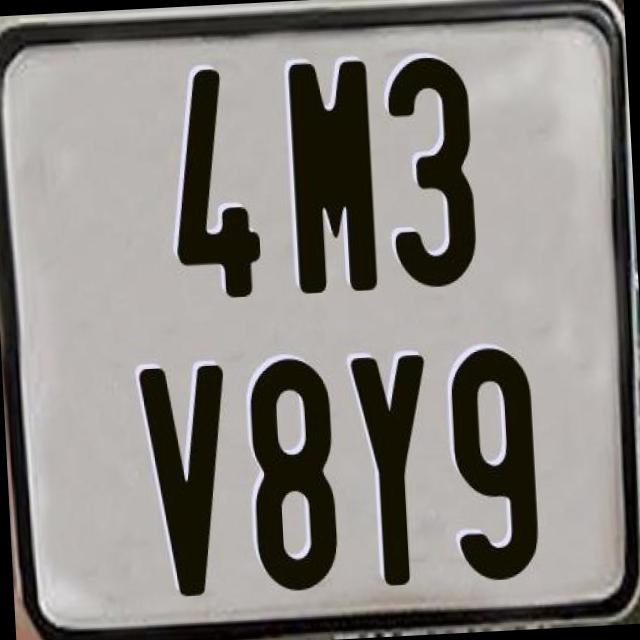3: (382, 54, 474, 292)
4: (168, 66, 263, 305)
8: (246, 353, 342, 599)
9: (448, 342, 544, 578)
M: (287, 57, 378, 296)
V: (136, 366, 234, 598)
Y: (346, 354, 431, 588)
